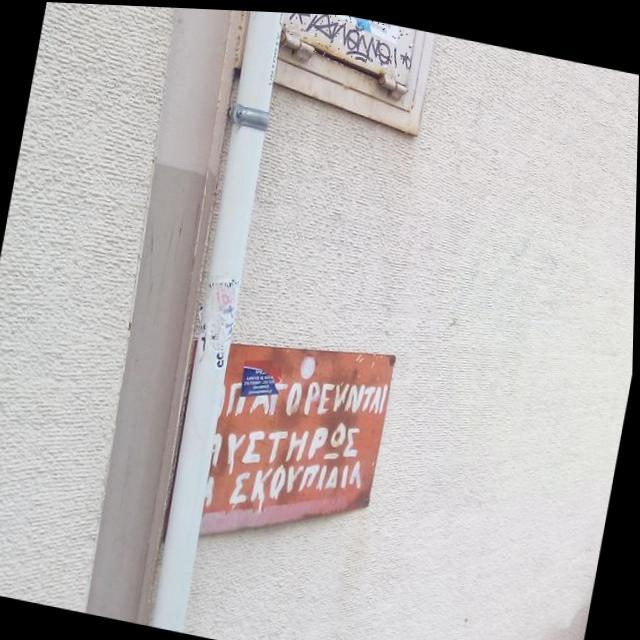-: (279, 10, 417, 70)
